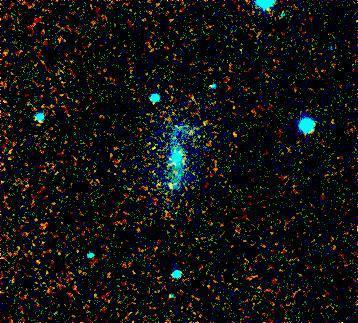star: (155, 170, 185, 200)
